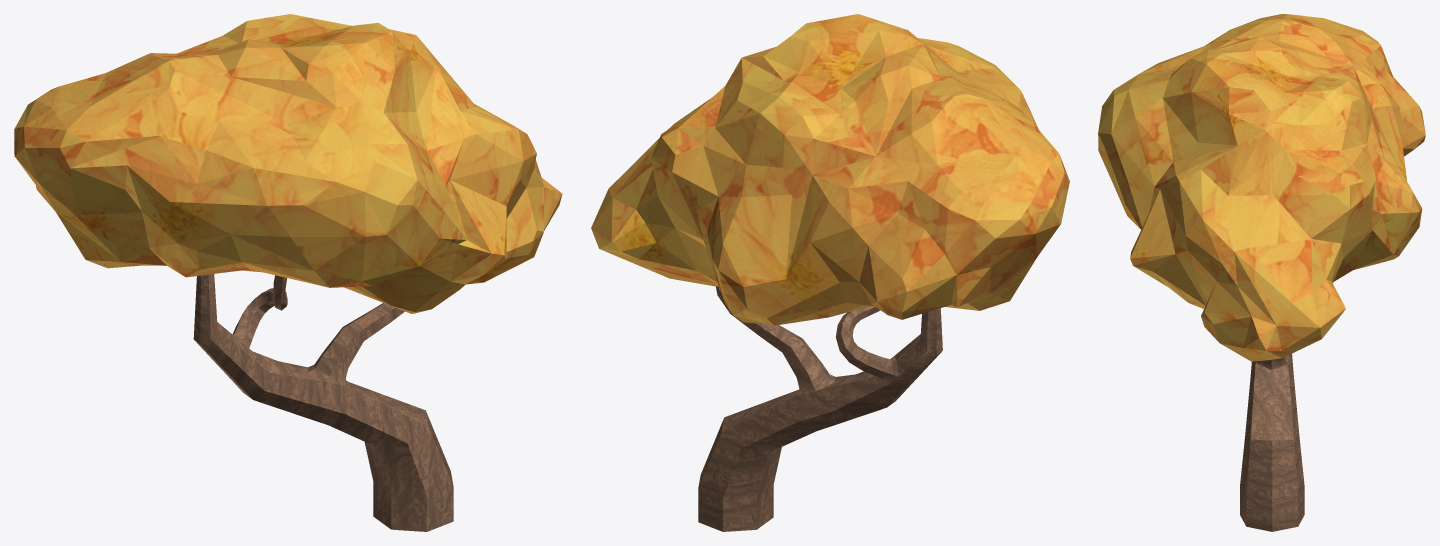
The model's file is cherry blossom tree B (UPD).fbx.
3 renders of one model, left to right at view 1: azimuth 30°, elevation 25°; view 2: azimuth 150°, elevation 25°; view 3: azimuth 270°, elevation 25°, orthographic. The views are drawn at different scales.
Parts seen in each view (by area): view 1: m; view 2: m; view 3: m.
Boxes of the visible parts, left/top/right/bottom form: m: left=14, top=14, right=562, bottom=531; m: left=591, top=14, right=1069, bottom=531; m: left=1098, top=14, right=1425, bottom=531.
Bounding box in the file's own units: 41.66 × 41.43 × 29.37.
Materials: 2 (2 with a texture image).
